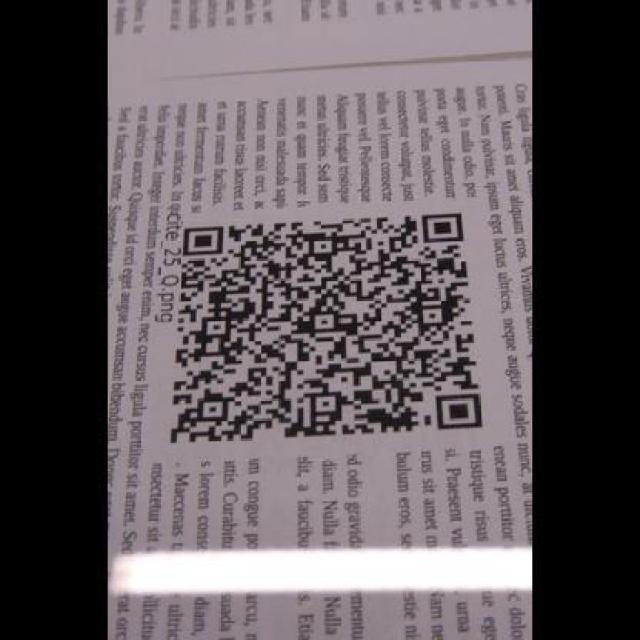QRCode: (166, 206, 489, 446)
